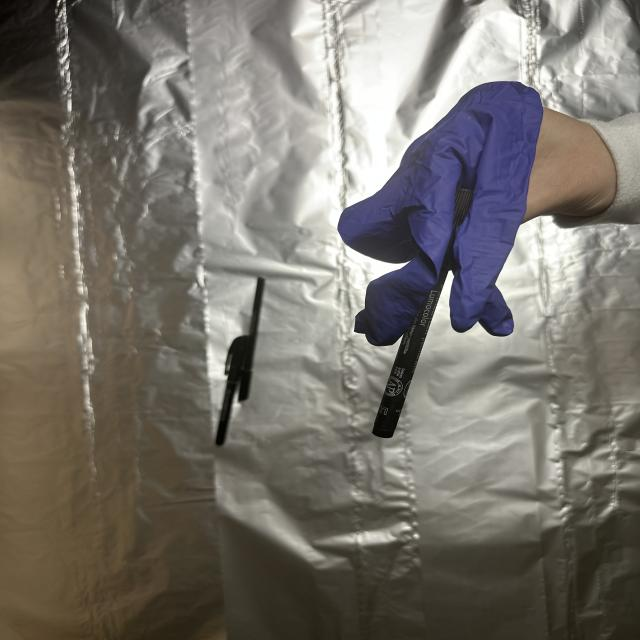glove_not_fitted: (330, 67, 633, 352)
